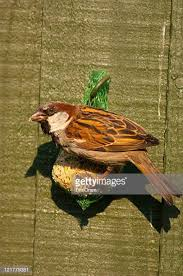hsparrow: (24, 97, 180, 205)
